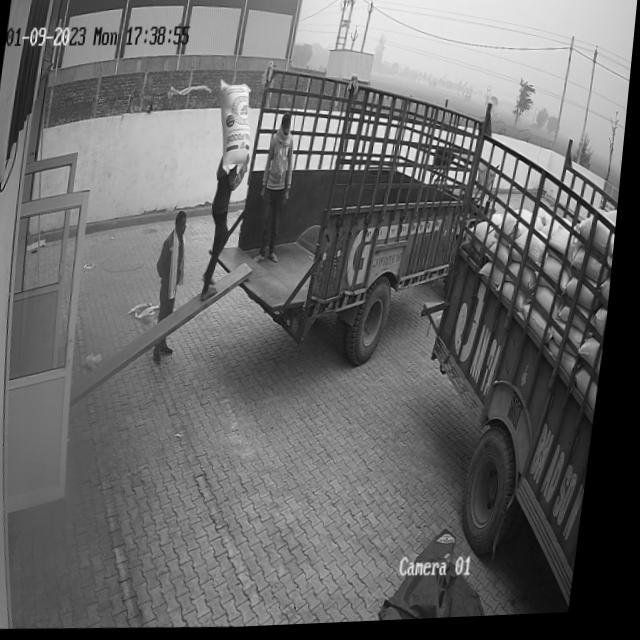sack: (211, 81, 260, 177)
